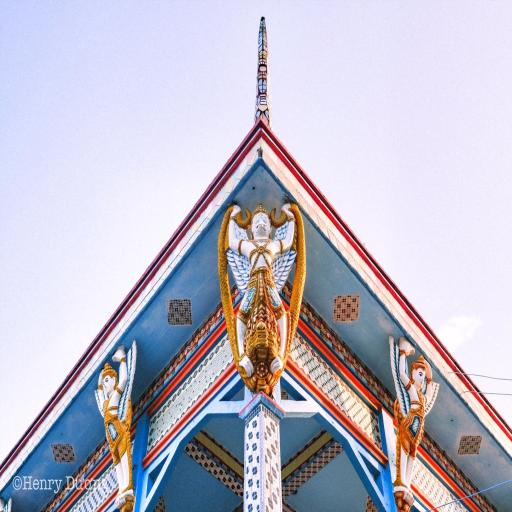lua: (240, 2, 280, 144)
than: (208, 178, 314, 418), (366, 318, 439, 512), (83, 332, 158, 512)
